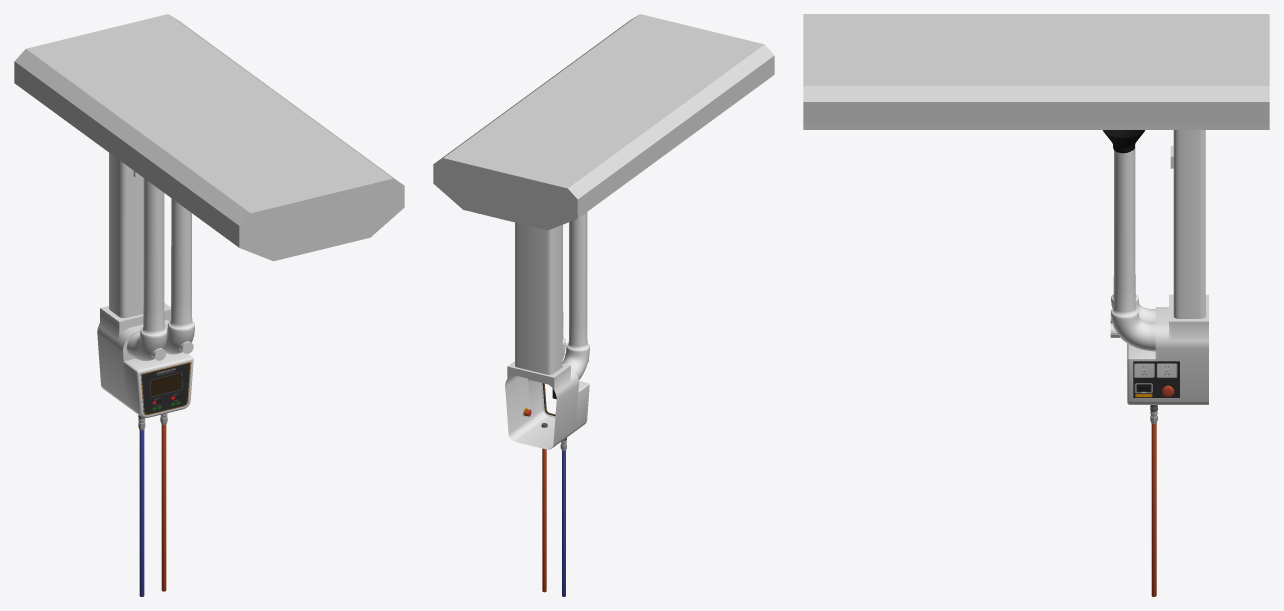
The model's file is smoke_001.glb.
3 renders of one model, left to right at view 1: azimuth 30°, elevation 25°; view 2: azimuth 150°, elevation 25°; view 3: azimuth 270°, elevation 25°, orthographic. The views are drawn at different scales.
Parts seen in each view (by area): view 1: shell_top_001, shell_002, shell_001, smoke_tube_003, smoke_tube_004, faceboard_001, tube_red_002, tube_blue_002; view 2: shell_top_001, shell_002, shell_001, smoke_tube_003, tube_red_002, tube_blue_002; view 3: shell_top_001, shell_002, shell_001, smoke_tube_004, socket.001, tube_red_002, smoke_tube_002.
Part boxes in pixels (x1,y1,x2,y2): shell_top_001: [14, 14, 404, 261]; shell_002: [109, 153, 143, 318]; shell_001: [97, 303, 193, 418]; smoke_tube_003: [127, 178, 167, 360]; smoke_tube_004: [164, 198, 194, 354]; faceboard_001: [140, 361, 190, 415]; tube_red_002: [161, 424, 166, 591]; tube_blue_002: [139, 430, 144, 596]; shell_top_001: [433, 14, 774, 230]; shell_002: [515, 222, 562, 374]; shell_001: [505, 361, 589, 449]; smoke_tube_003: [562, 212, 589, 379]; tube_red_002: [542, 448, 546, 592]; tube_blue_002: [562, 451, 565, 596]; shell_top_001: [803, 14, 1269, 129]; shell_002: [1173, 130, 1205, 318]; shell_001: [1127, 294, 1208, 404]; smoke_tube_004: [1111, 147, 1155, 351]; socket.001: [1133, 361, 1179, 397]; tube_red_002: [1151, 424, 1156, 596]; smoke_tube_002: [1103, 130, 1144, 153].
Bounding box in the file's own units: 0.5291 × 1.6 × 1.25.
Materials: 14 (2 with a texture image).
